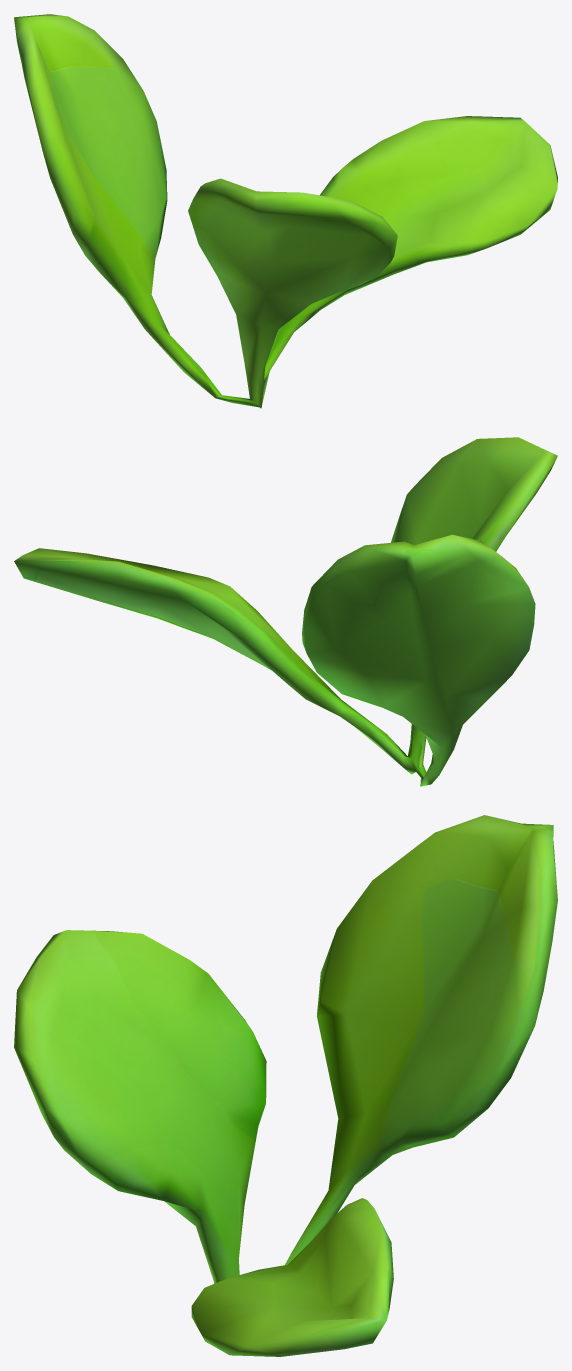
The model's file is leaf-cluster.glb.
The picture shows the model from 3 angles, top to bottom: view 1: azimuth 30°, elevation 25°; view 2: azimuth 150°, elevation 25°; view 3: azimuth 270°, elevation 25°; orthographic projection. The views are drawn at different scales.
Bounding box in the file's own units: 1.62 × 1.06 × 1.19.
Materials: 1 (1 with a texture image).
